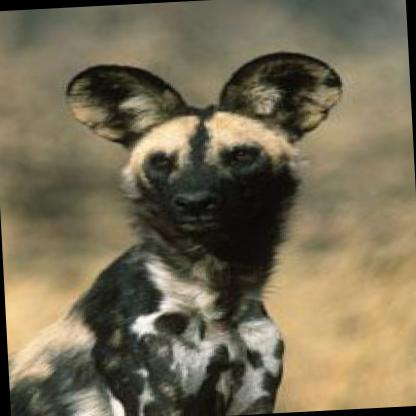African_hunting_dog: (0, 45, 358, 416)
